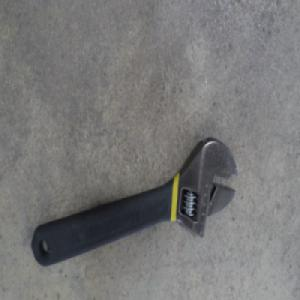AdjustableWrench: (30, 135, 240, 268)
